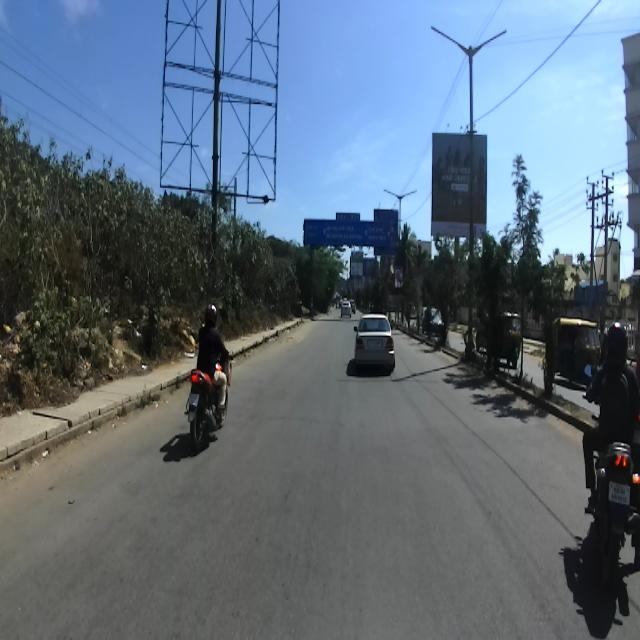car ahead at: (346, 310, 400, 382)
motorcycle ahead at: (584, 422, 640, 555), (188, 362, 232, 451)
